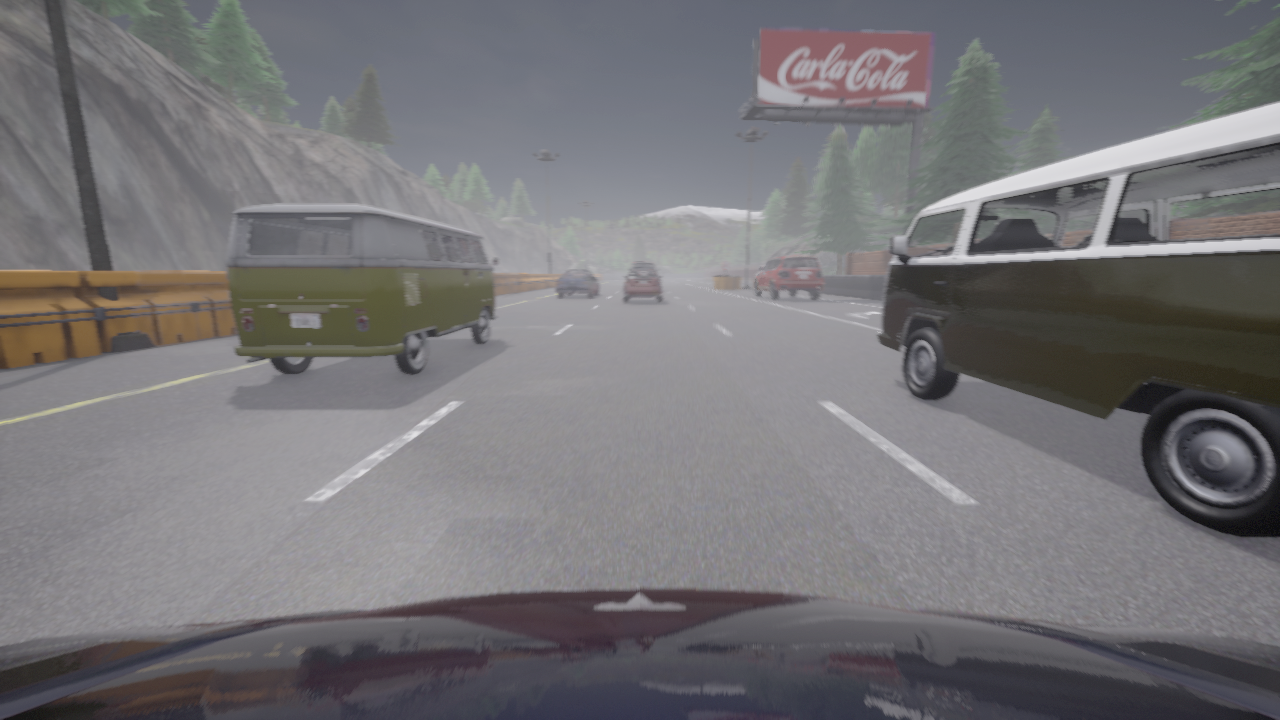cyclist: (877, 101, 1279, 537), (0, 588, 1279, 719), (225, 203, 497, 374), (753, 255, 823, 299), (623, 266, 662, 302), (556, 270, 598, 297), (628, 261, 659, 270)
